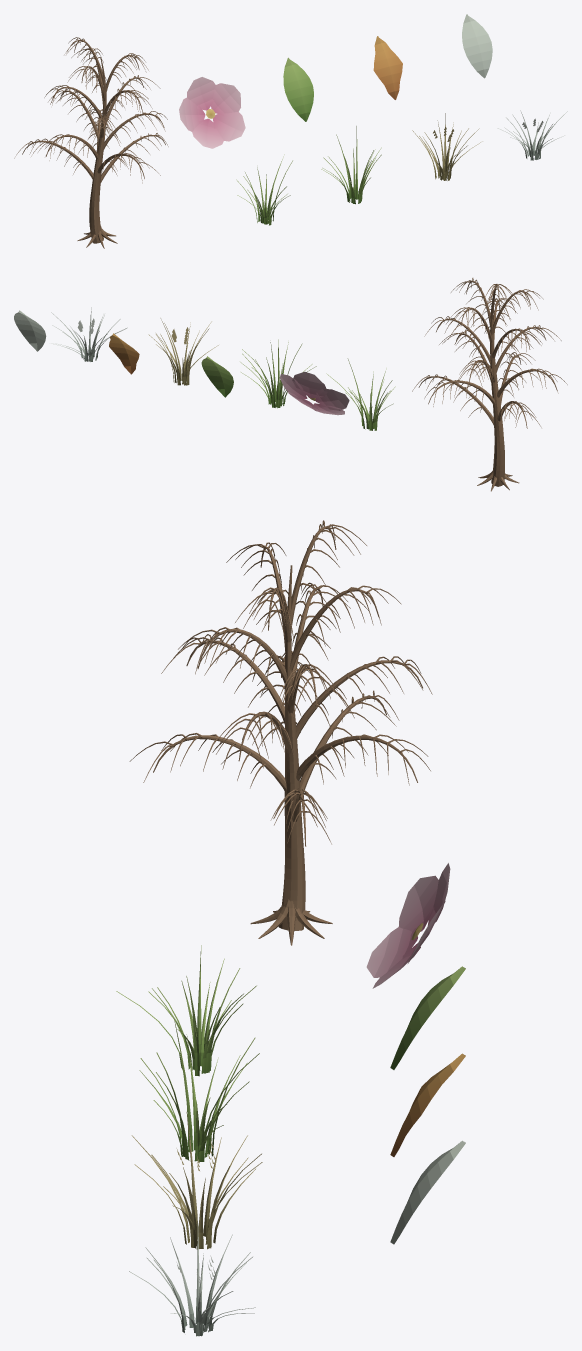
File: botanical-kit.glb
3 views of the same model, one above another, from view 1: azimuth 30°, elevation 25°; view 2: azimuth 150°, elevation 25°; view 3: azimuth 270°, elevation 25° (orthographic). The views are drawn at different scales.
Visible parts, largest first — view 1: Branch / curved scaffold, Spring / five cupped petals, Summer / folded serrated leaf, Winter / frost coated leaf, Autumn / curled copper leaf, Autumn / dry seed heads, Summer / meadow tuft, Spring / tender grass, Winter / frost sedge; view 2: Branch / curved scaffold, Spring / five cupped petals, Autumn / dry seed heads, Summer / meadow tuft, Winter / frost sedge, Spring / tender grass, Summer / folded serrated leaf, Winter / frost coated leaf, Autumn / curled copper leaf; view 3: Branch / curved scaffold, Spring / five cupped petals, Autumn / dry seed heads, Summer / meadow tuft, Spring / tender grass, Winter / frost sedge, Summer / folded serrated leaf, Winter / frost coated leaf, Autumn / curled copper leaf.
Part boxes in pixels (<box>): Branch / curved scaffold: <box>14,37,168,248</box>; Spring / five cupped petals: <box>179,77,245,148</box>; Summer / folded serrated leaf: <box>283,57,313,121</box>; Winter / frost coated leaf: <box>462,14,492,78</box>; Autumn / curled copper leaf: <box>373,36,402,99</box>; Autumn / dry seed heads: <box>412,113,482,180</box>; Summer / meadow tuft: <box>321,126,381,204</box>; Spring / tender grass: <box>236,154,292,225</box>; Winter / frost sedge: <box>497,110,567,160</box>; Branch / curved scaffold: <box>412,278,567,491</box>; Spring / five cupped petals: <box>279,371,349,415</box>; Autumn / dry seed heads: <box>148,318,218,385</box>; Summer / meadow tuft: <box>240,339,316,408</box>; Winter / frost sedge: <box>51,307,127,361</box>; Spring / tender grass: <box>326,358,395,430</box>; Summer / folded serrated leaf: <box>201,356,233,397</box>; Winter / frost coated leaf: <box>14,310,46,351</box>; Autumn / curled copper leaf: <box>109,333,139,374</box>; Branch / curved scaffold: <box>129,520,432,945</box>; Spring / five cupped petals: <box>366,863,450,988</box>; Autumn / dry seed heads: <box>131,1112,262,1249</box>; Summer / meadow tuft: <box>139,1020,259,1162</box>; Spring / tender grass: <box>116,945,256,1076</box>; Winter / frost sedge: <box>129,1221,255,1336</box>; Summer / folded serrated leaf: <box>390,966,465,1069</box>; Winter / frost coated leaf: <box>390,1140,465,1244</box>; Autumn / curled copper leaf: <box>390,1053,465,1156</box>.
Size of the model in its own units: 8.86 by 3.3 by 2.63.
